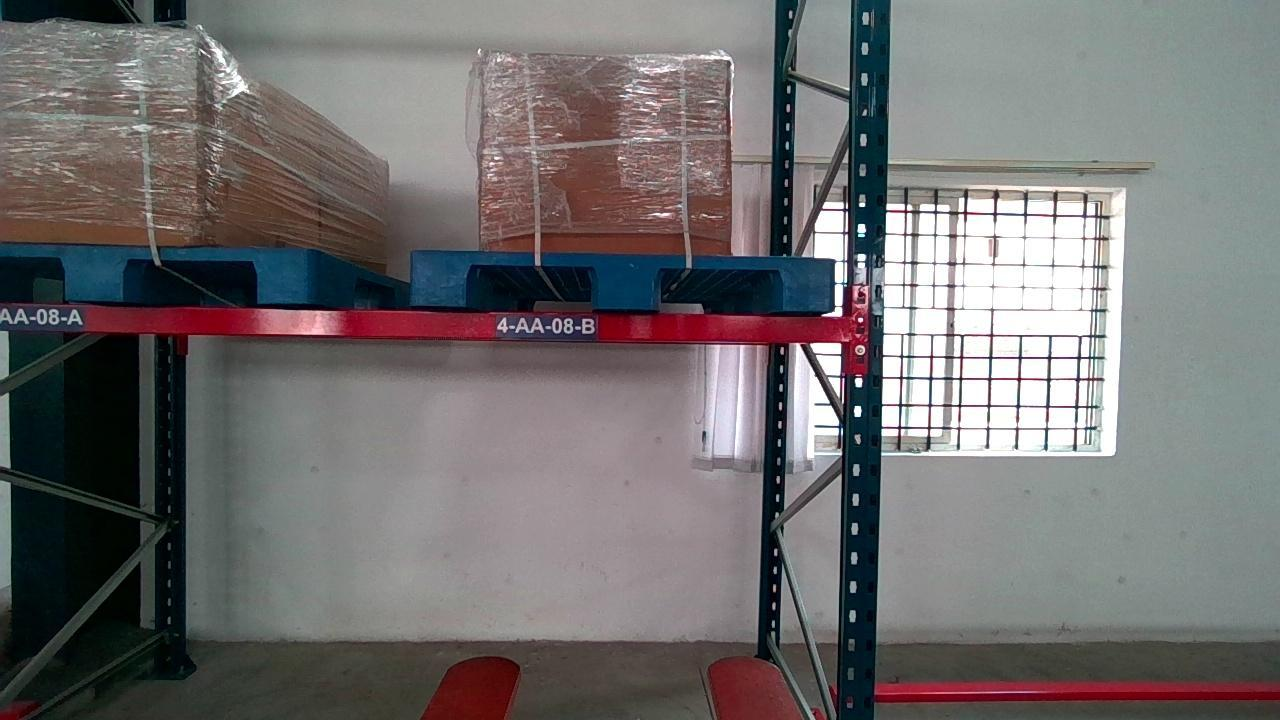h_rack: (5, 297, 857, 345)
small_pallet: (411, 251, 834, 313), (0, 242, 312, 302)
